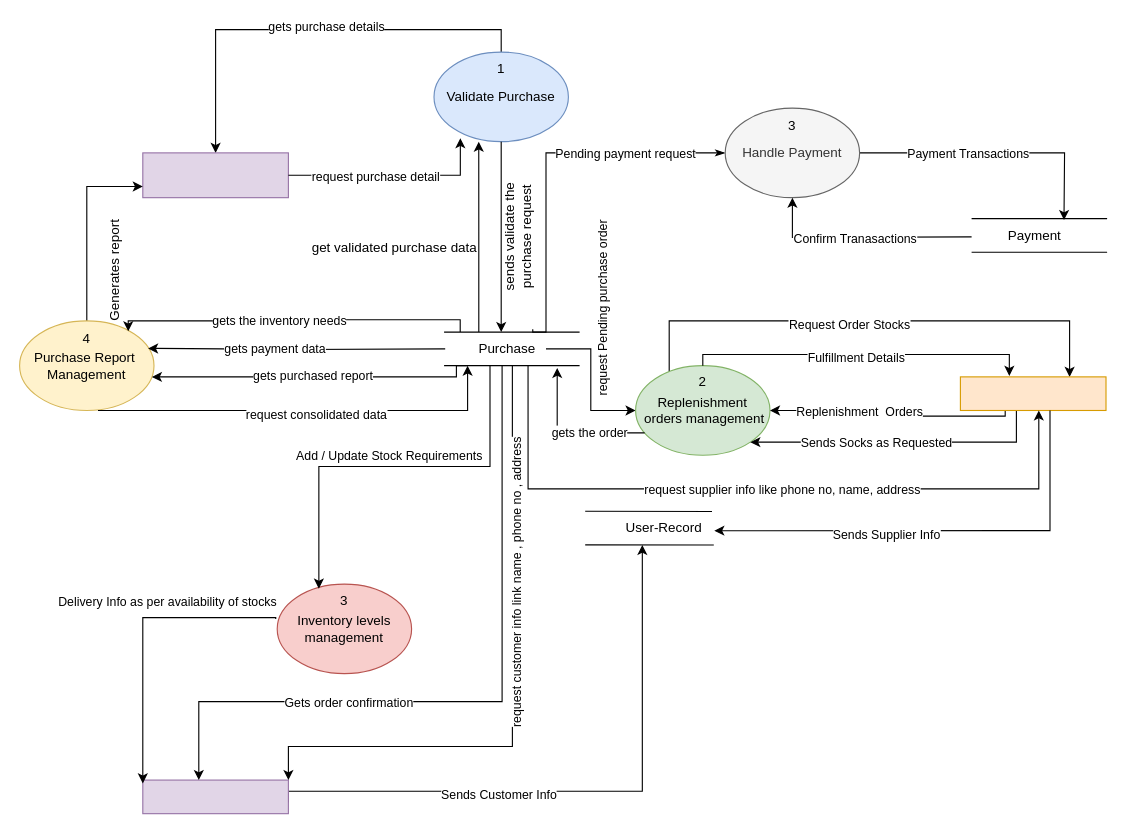
The diagram is 1128 pixels wide and 833 high, and some of its shapes have lost their labels. Each missing label, with the centre of its shape:
Admin: the point at 215,175
Customer: the point at 215,796
Suppiler: the point at 1032,393
